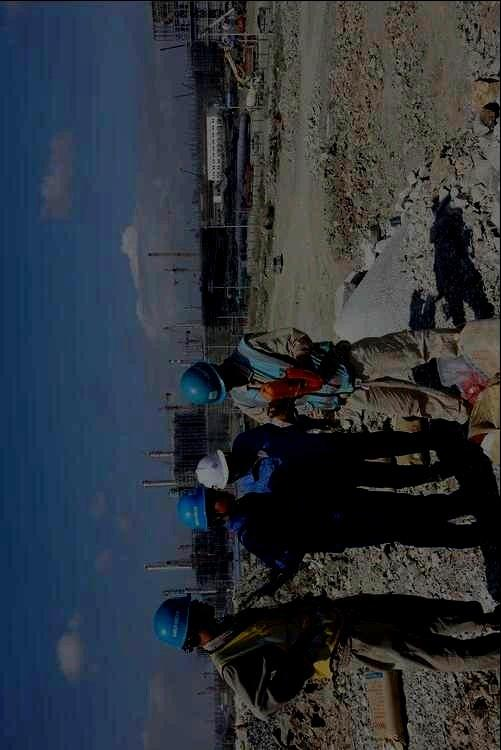helmet: (152, 591, 215, 653), (177, 483, 236, 531), (180, 360, 239, 405), (195, 449, 246, 490)
